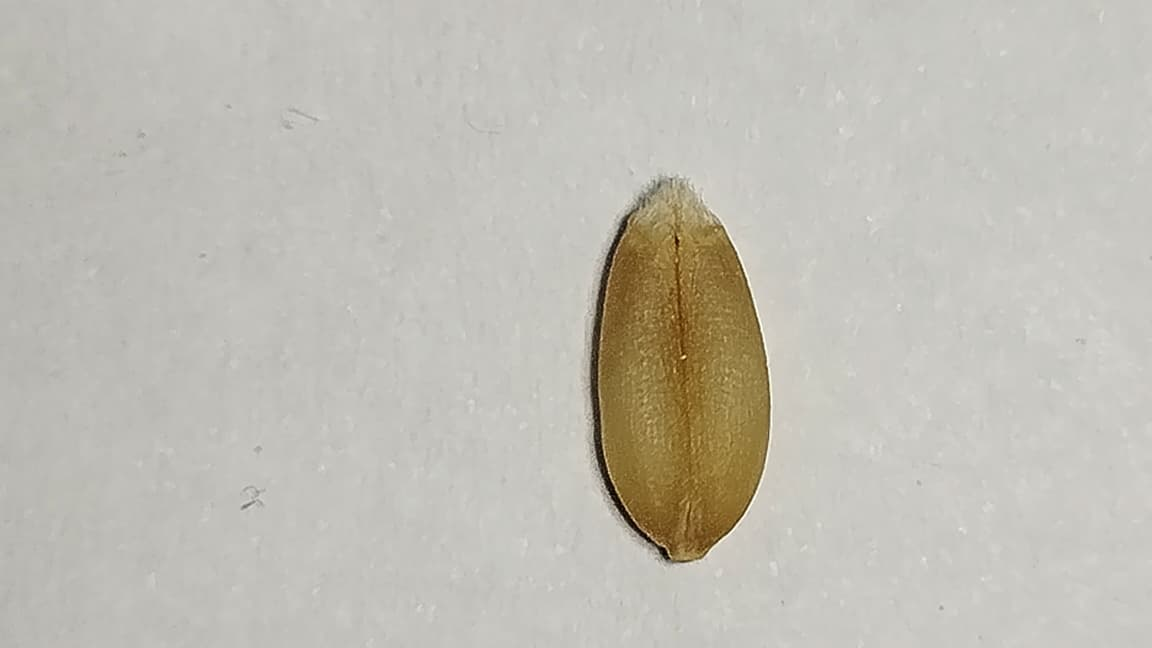healthy: (592, 178, 771, 566)
